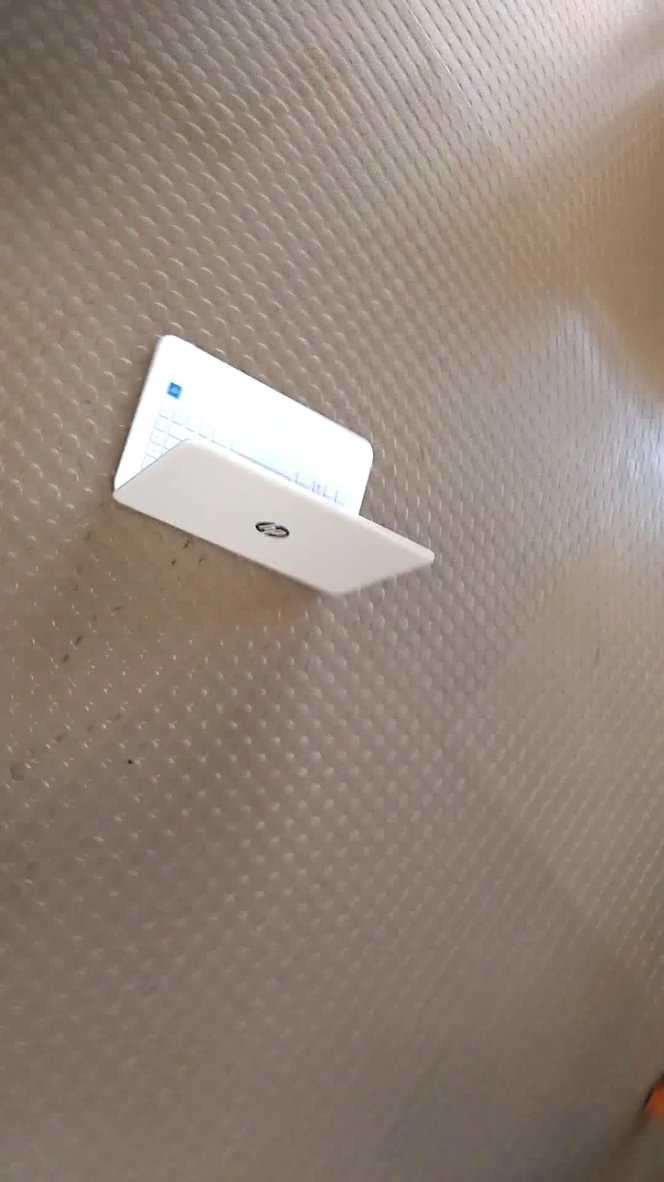laptop: (96, 308, 444, 631)
